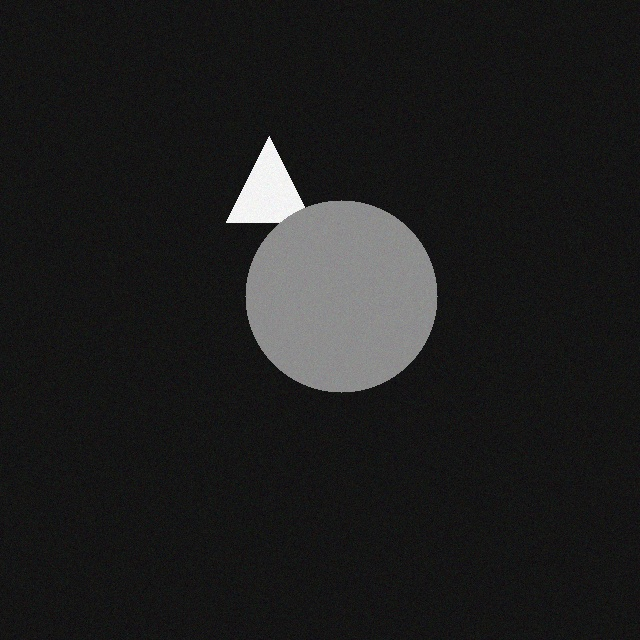circle: (230, 210, 422, 402)
triangle: (211, 146, 297, 232)
